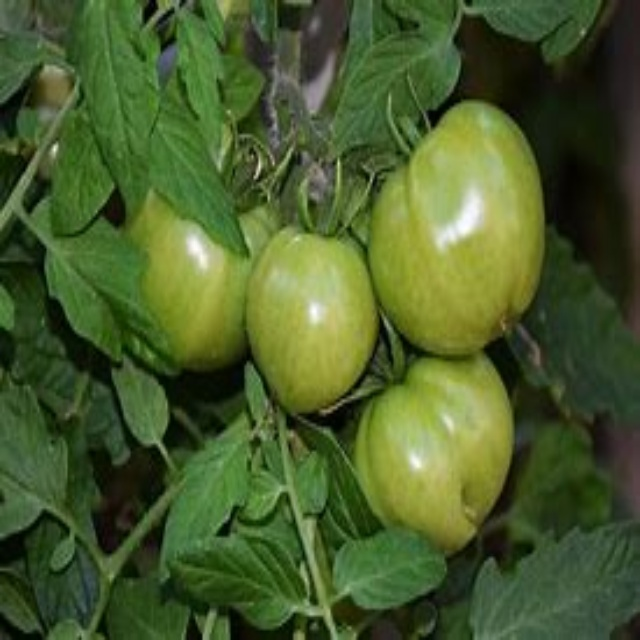tomato: (366, 96, 551, 357), (347, 350, 512, 557), (121, 168, 280, 370), (241, 226, 381, 425)
